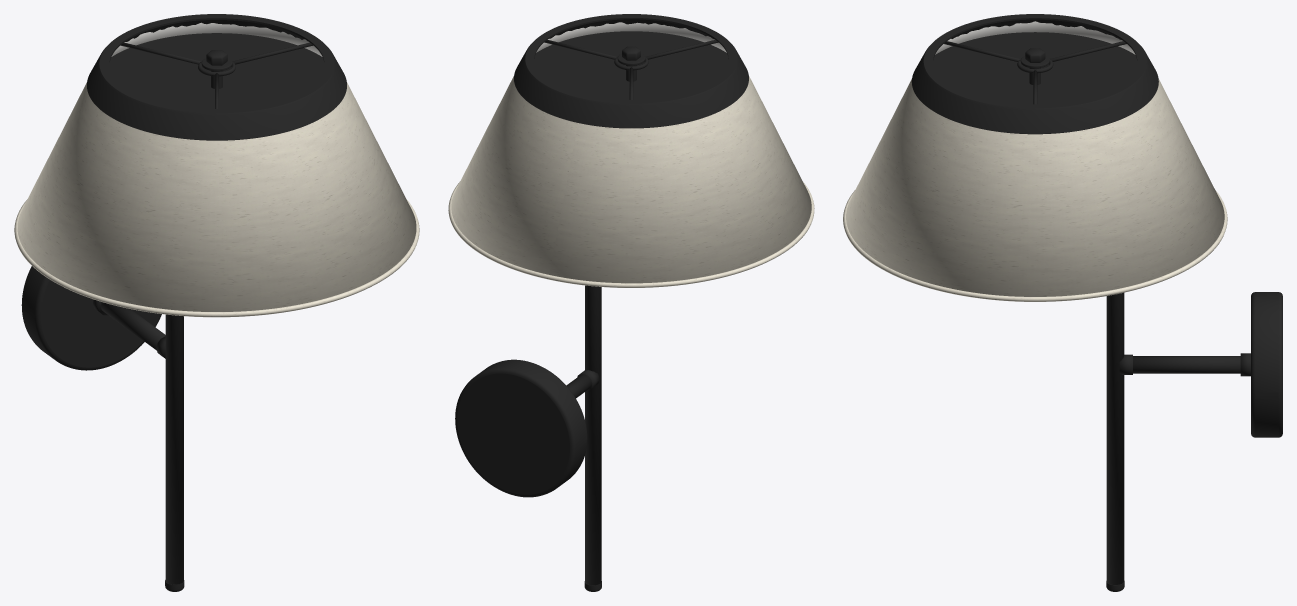
The picture shows the model from 3 angles, left to right: view 1: azimuth 30°, elevation 25°; view 2: azimuth 150°, elevation 25°; view 3: azimuth 270°, elevation 25°; orthographic projection. The views are drawn at different scales.
Visible parts, largest first — view 1: fabric, metal, liner; view 2: fabric, metal, liner; view 3: fabric, metal, liner.
Boxes of the visible parts, bbox=[...] form: fabric: bbox=[14, 82, 419, 317]; metal: bbox=[21, 14, 346, 591]; liner: bbox=[111, 22, 322, 56]; fabric: bbox=[448, 76, 814, 287]; metal: bbox=[455, 14, 748, 591]; liner: bbox=[536, 22, 726, 52]; fabric: bbox=[843, 79, 1227, 301]; metal: bbox=[911, 14, 1282, 591]; liner: bbox=[935, 21, 1135, 54].
Size of the model in its own units: 0.264 by 0.408 by 0.302.
5 materials, 1 textured.
